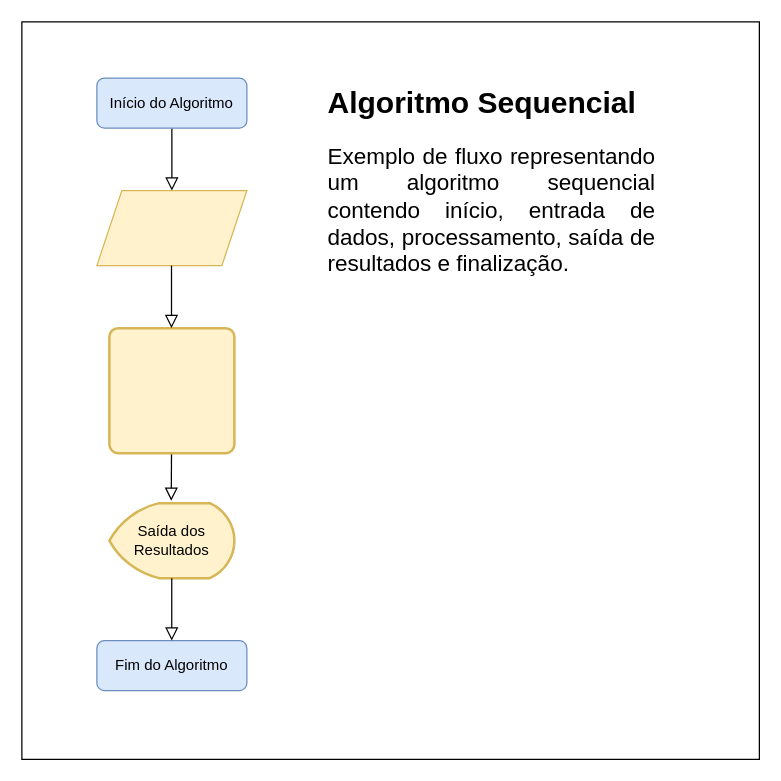
Some shapes in this 781 by 781 pixel diagram are drawn without their labels. Here are the shapes that lost their labels. From the top down, the centre of each, then its label:
pixel 171 227: Entrada de Dados
pixel 171 390: Processamento
